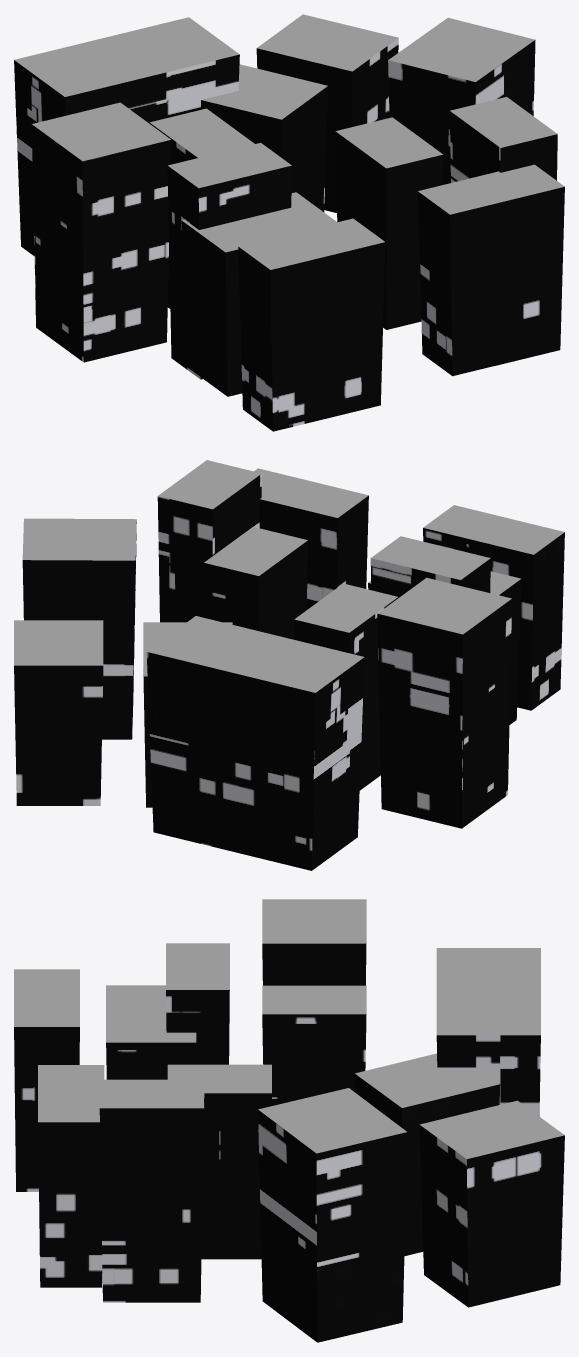
File: Downtown07.fbx
3 renders of one model, top to bottom at view 1: azimuth 30°, elevation 25°; view 2: azimuth 150°, elevation 25°; view 3: azimuth 270°, elevation 25°, orthographic. The views are drawn at different scales.
Parts seen in each view (by area): view 1: Downtown07; view 2: Downtown07; view 3: Downtown07.
Boxes of the visible parts, x1,y1,x2,y2 form: Downtown07: (14,14,564,431); Downtown07: (14,460,564,870); Downtown07: (14,899,564,1342).
Size of the model in its own units: 1.56 by 0.6297 by 1.51.
2 materials, 1 textured.
